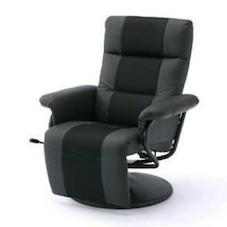chair: (6, 5, 213, 214)
